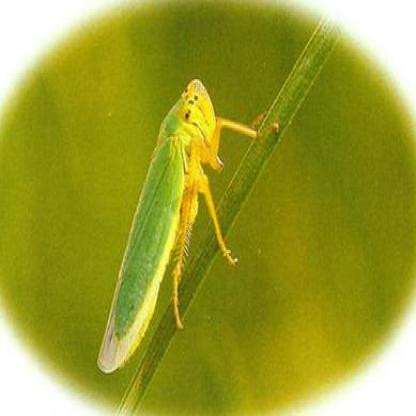Green-Leafhopper: (96, 81, 266, 374)
